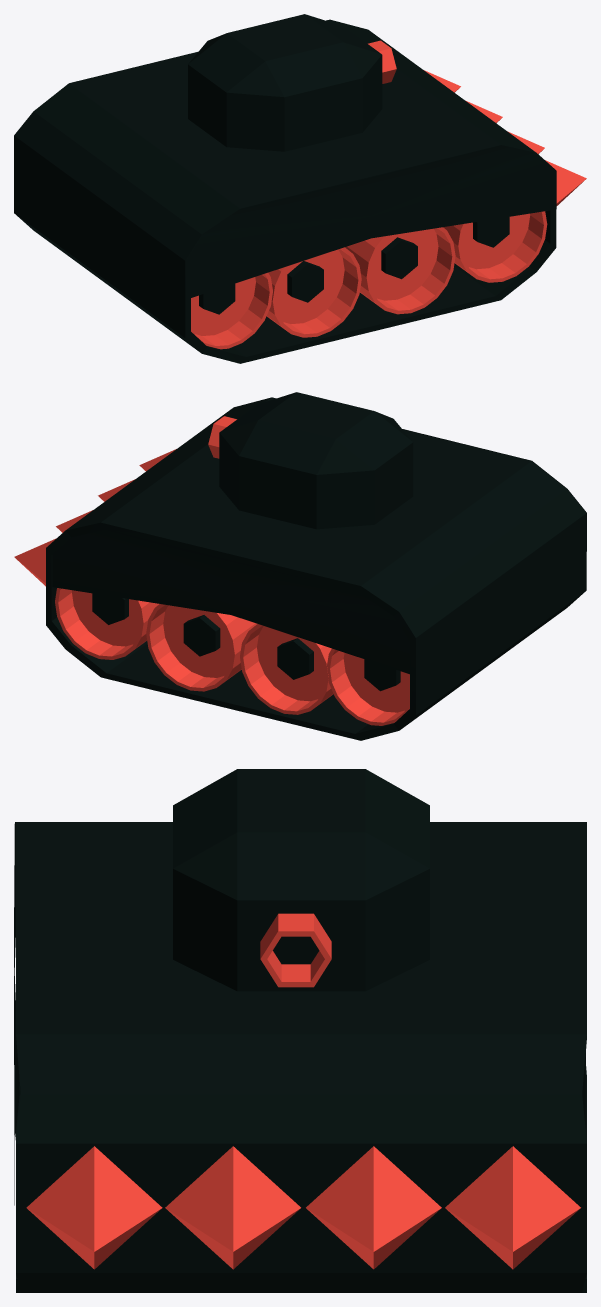
The model's file is drill_enemy.fbx.
3 renders of one model, top to bottom at view 1: azimuth 30°, elevation 25°; view 2: azimuth 150°, elevation 25°; view 3: azimuth 270°, elevation 25°, orthographic. The views are drawn at different scales.
Parts seen in each view (by area): view 1: Hull, Turrent Head, Wheel 3, Wheel 2, Wheel 4, Wheel 1, Spear, Tank Trim.013, Tank Trim.004, Tank Trim.007, Tank Trim.010, Nozzle; view 2: Hull, Turrent Head, Wheel 6, Wheel 7, Wheel 5, Wheel 8, Spear, Tank Trim.024, Tank Trim.015, Tank Trim.021, Tank Trim.018, Nozzle; view 3: Hull, Turrent Head, Spear, Nozzle.
Boxes of the visible parts, x1,y1,x2,y2 form: Hull: (14,19,556,363); Turrent Head: (188,14,382,151); Wheel 3: (345,227,455,314); Wheel 2: (267,247,361,337); Wheel 4: (443,211,547,282); Wheel 1: (191,272,272,349); Spear: (424,70,586,205); Tank Trim.013: (287,261,323,302); Tank Trim.004: (381,237,417,279); Tank Trim.007: (473,217,509,247); Tank Trim.010: (199,283,235,314); Nozzle: (368,40,396,83); Hull: (46,397,586,740); Turrent Head: (219,392,413,529); Wheel 6: (146,604,257,691); Wheel 7: (240,624,333,714); Wheel 5: (55,588,158,659); Wheel 8: (327,648,409,725); Spear: (14,449,176,586); Tank Trim.024: (183,615,220,656); Tank Trim.015: (277,638,313,679); Tank Trim.021: (92,593,128,624); Tank Trim.018: (364,659,400,691); Nozzle: (208,416,236,458); Hull: (14,822,586,1292); Turrent Head: (173,769,429,991); Spear: (26,1146,580,1269); Nozzle: (260,913,331,987).
Size of the model in its own units: 573 by 298 by 401.
